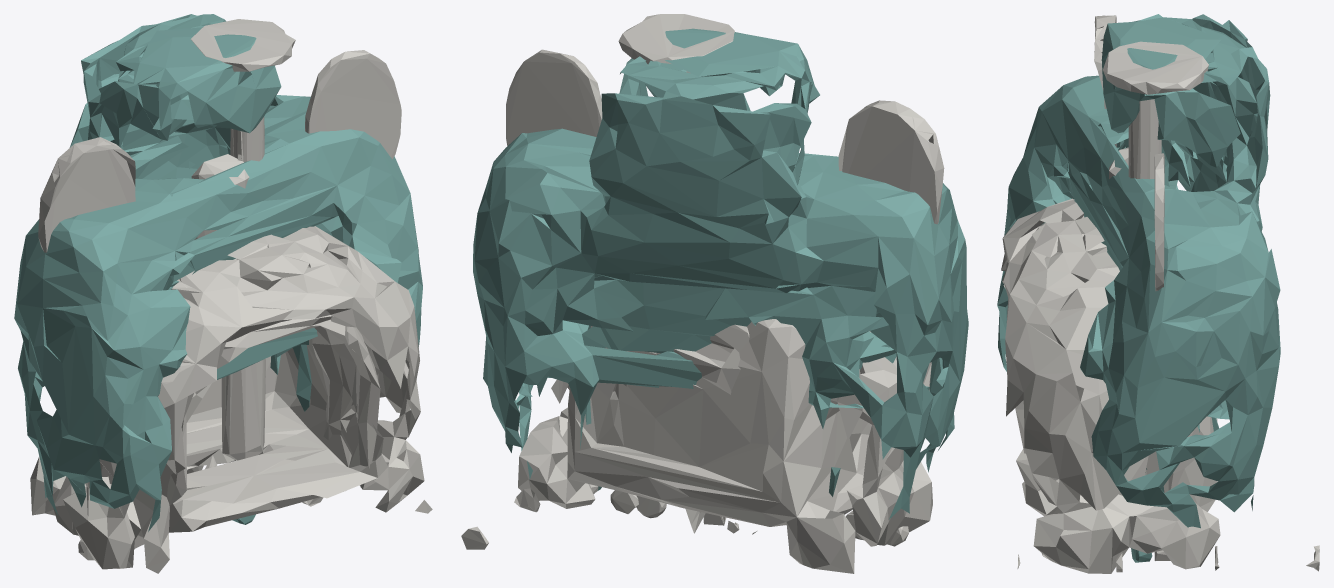
File: ch03b_spark.glb
The picture shows the model from 3 angles, left to right: view 1: azimuth 30°, elevation 25°; view 2: azimuth 150°, elevation 25°; view 3: azimuth 270°, elevation 25°; orthographic projection. The views are drawn at different scales.
Visible parts, largest first — view 1: world; view 2: world; view 3: world.
Boxes of the visible parts, left/top/right/bottom form: world: left=14, top=14, right=432, bottom=573; world: left=461, top=14, right=968, bottom=573; world: left=997, top=14, right=1319, bottom=573.
Size of the model in its own units: 1.86 by 2 by 1.28.
